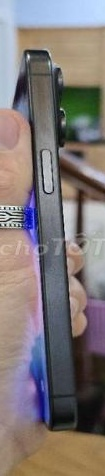scratch: (27, 83, 56, 147)
